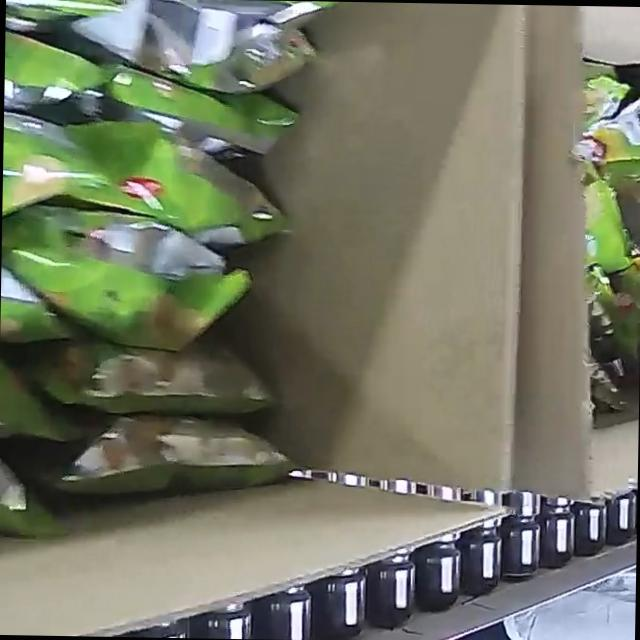yogurt: (0, 0, 352, 533), (583, 60, 640, 379)
